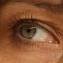eye: (20, 24, 36, 39)
